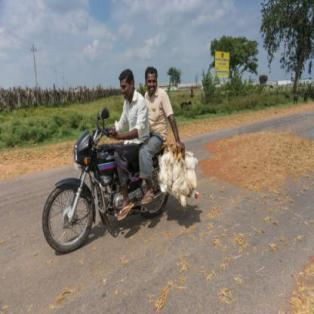Motocicleta: (41, 129, 168, 253)
